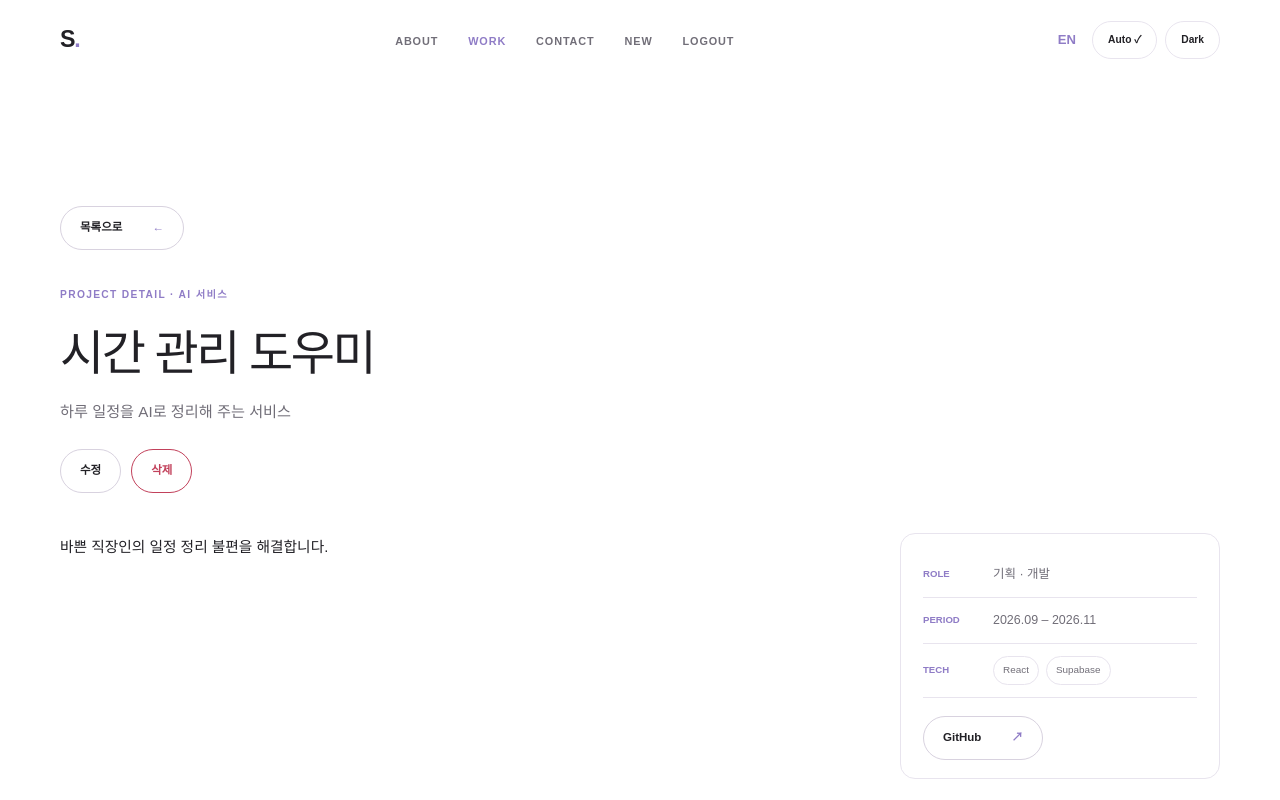
it: 상세 화면 (/projects/:id) › 삭제 확인 후 삭제하면 알림과 함께 목록으로 이동한다
Click the button "삭제".
click(162, 471)  # box [131,449,192,493]
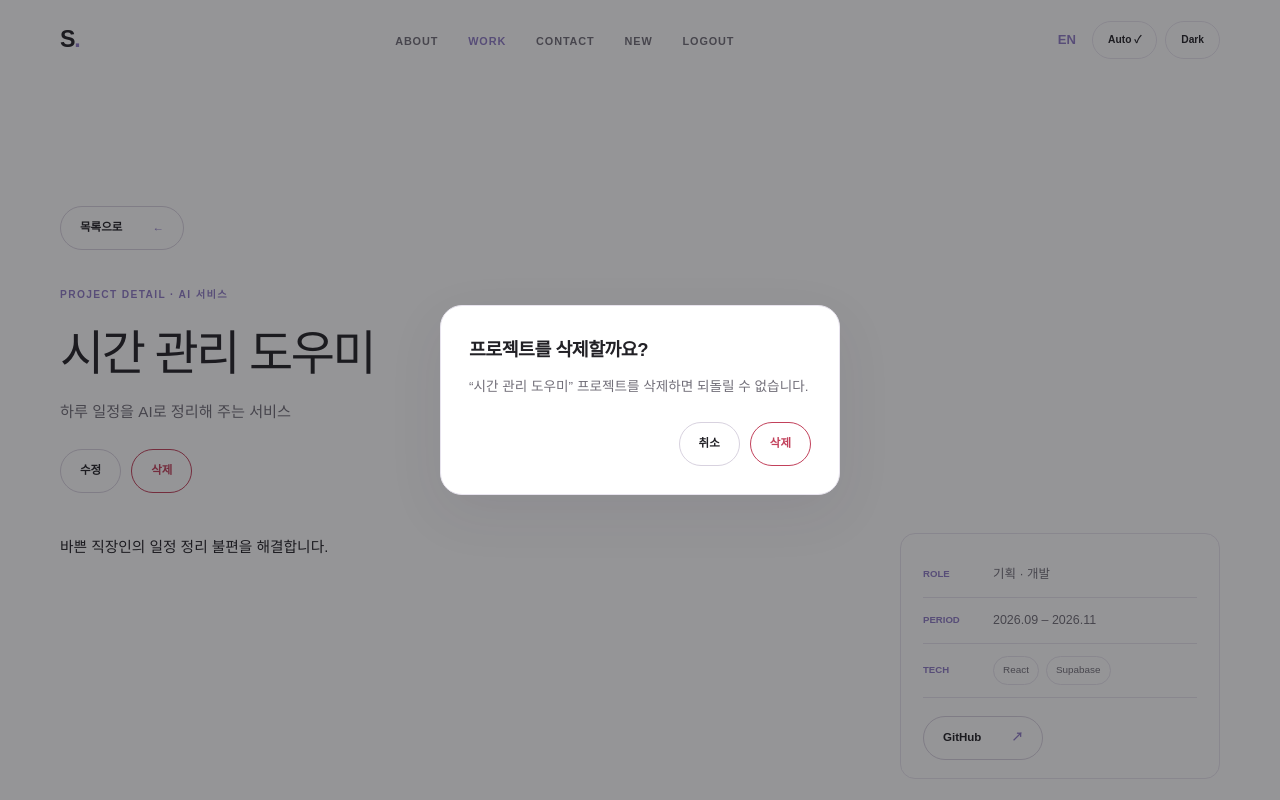
Click the button "삭제".
click(780, 444)  # box [750,422,811,466]
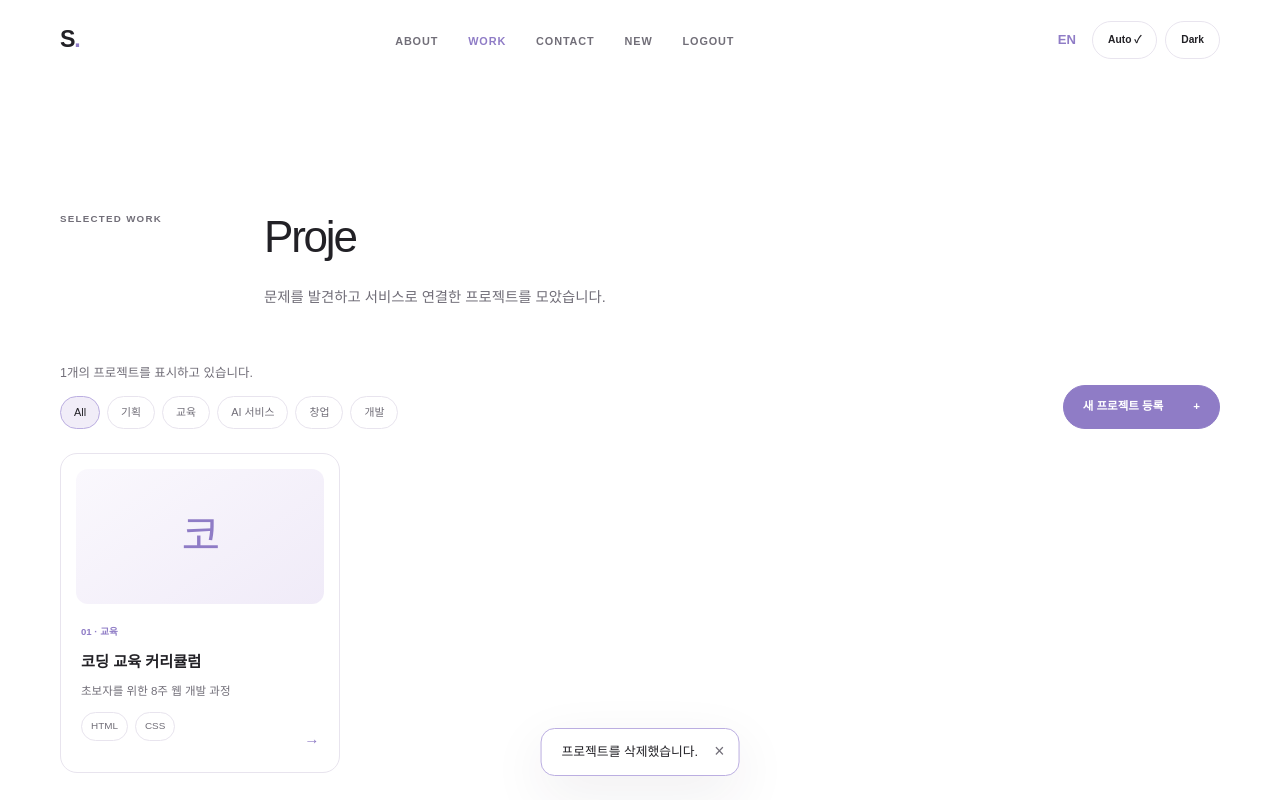
Expected: the heading named "Projects" is shown, [264,212,356,261]
Expected: the text "프로젝트를 삭제했습니다." is shown, [562,741,698,763]
Expected: the heading "코딩 교육 커리큘럼" is shown, [81,653,201,670]
